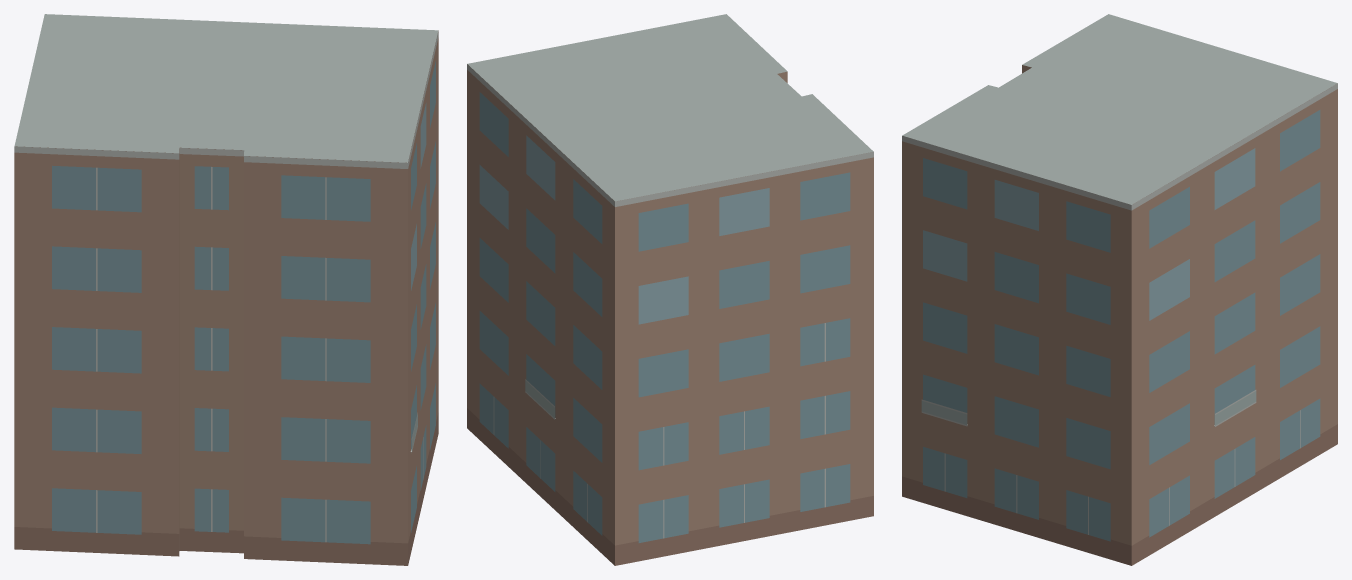
The model's file is survey-upis-32829817.glb.
3 views of the same model, side by side, from view 1: azimuth 30°, elevation 25°; view 2: azimuth 150°, elevation 25°; view 3: azimuth 270°, elevation 25° (orthographic). The views are drawn at different scales.
Parts seen in each view (by area): view 1: survey-upis-32829817.tmp; view 2: survey-upis-32829817.tmp; view 3: survey-upis-32829817.tmp.
Part boxes in pixels (x1,y1,x2,y2): survey-upis-32829817.tmp: (14, 14, 438, 565); survey-upis-32829817.tmp: (467, 14, 873, 565); survey-upis-32829817.tmp: (902, 14, 1337, 565).
Size of the model in its own units: 17.71 by 15.6 by 17.08.
